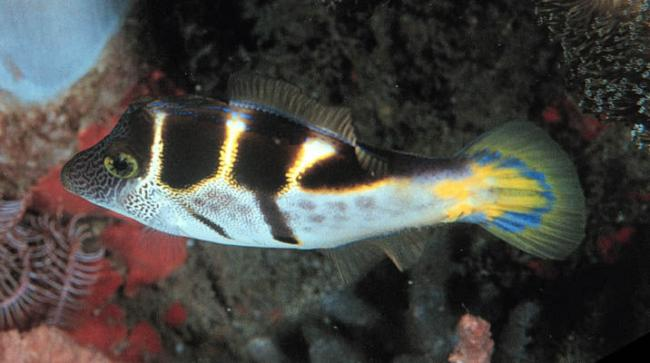fish: (59, 70, 588, 287)
